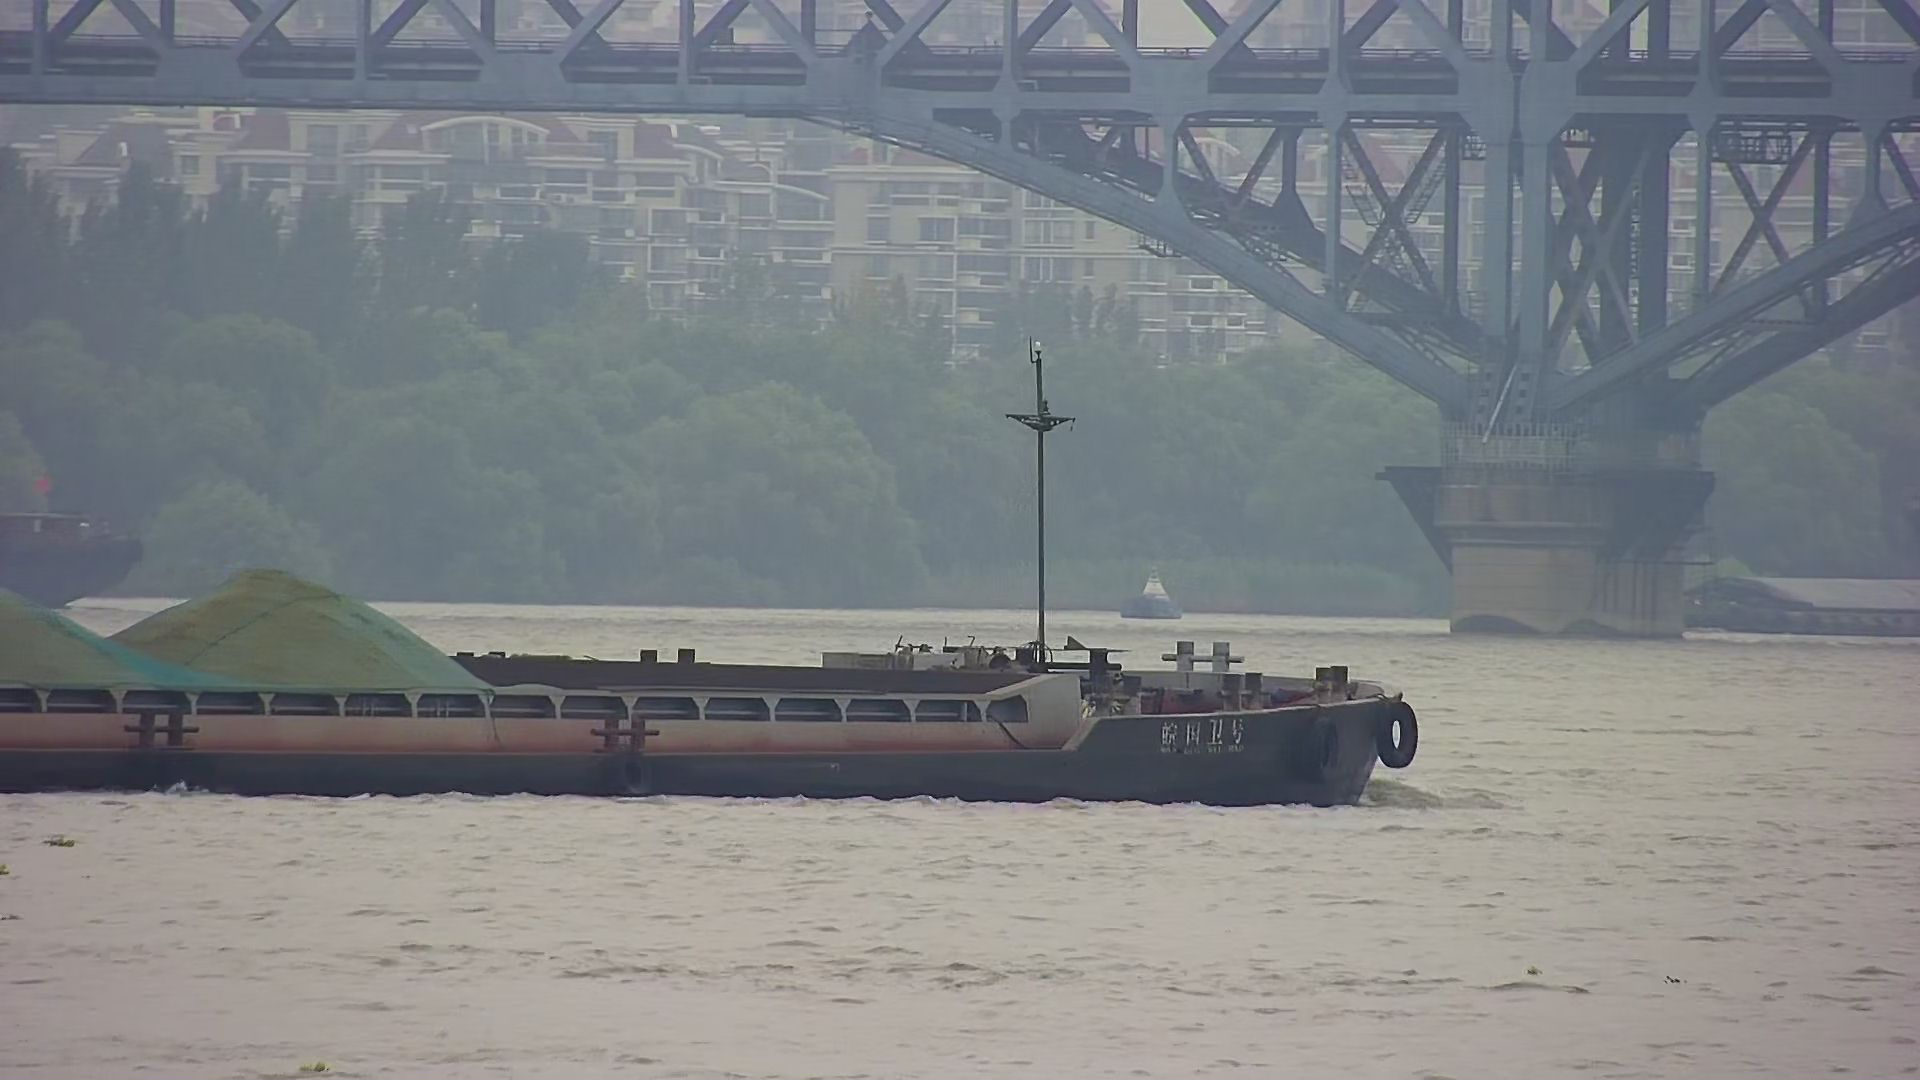boat: (1688, 564, 1920, 644), (1102, 558, 1215, 629)
bridge: (1, 1, 1908, 649)
ship: (1, 332, 1429, 833)
